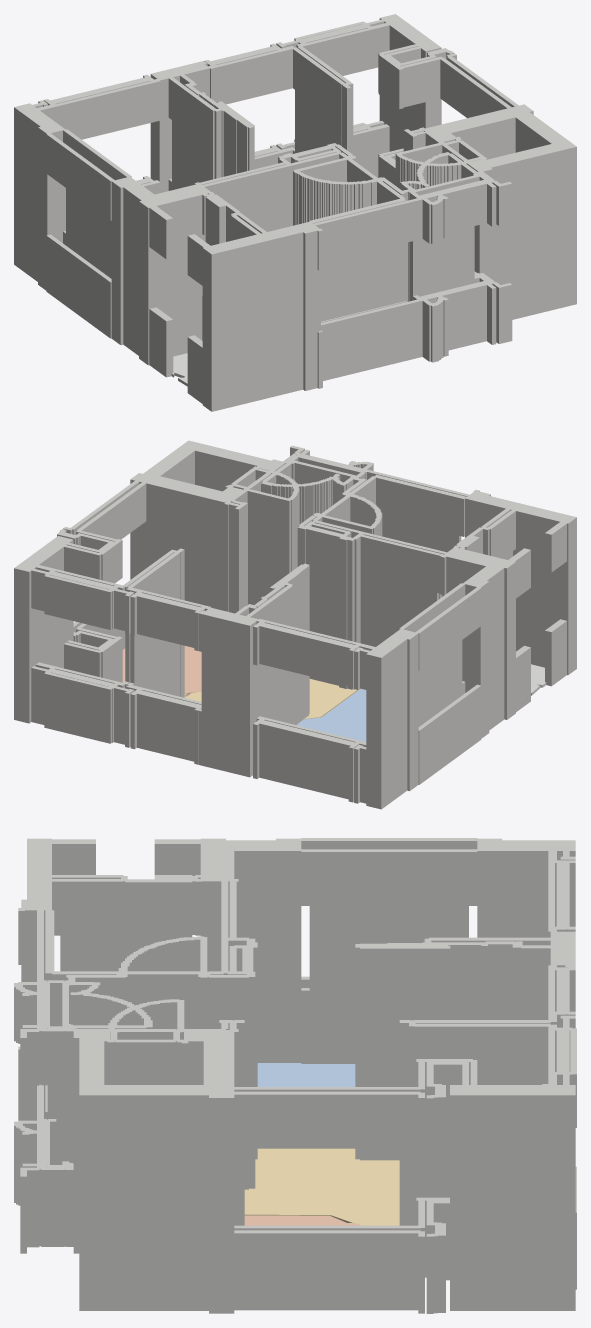
3 views of the same model, one above another, from view 1: azimuth 30°, elevation 25°; view 2: azimuth 150°, elevation 25°; view 3: azimuth 270°, elevation 25° (orthographic). The views are drawn at different scales.
Visible parts, largest first — view 1: walls; view 2: walls, room:bedroom:0, room:living:1, room:kitchen:2; view 3: walls, room:living:1, room:bedroom:0, room:kitchen:2.
Part boxes in pixels (bbox=[...]): walls: bbox=[14, 14, 576, 411]; walls: bbox=[14, 440, 576, 809]; room:bedroom:0: bbox=[296, 689, 366, 741]; room:living:1: bbox=[184, 679, 360, 719]; room:kitchen:2: bbox=[122, 646, 201, 695]; walls: bbox=[14, 838, 576, 1313]; room:living:1: bbox=[244, 1148, 399, 1225]; room:bedroom:0: bbox=[257, 1063, 355, 1086]; room:kitchen:2: bbox=[244, 1215, 360, 1225].
Size of the model in its own units: 7.24 by 2.8 by 6.63.
